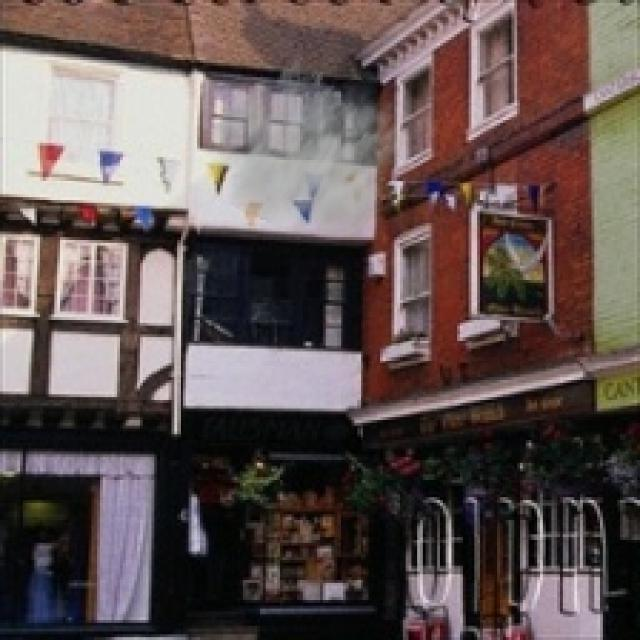Smoke: (200, 57, 414, 257)
